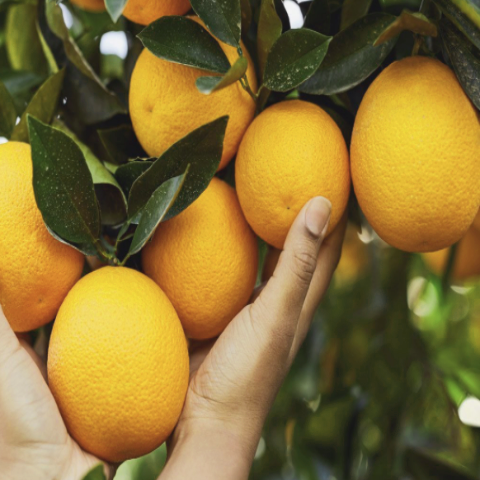orange: (33, 260, 200, 457), (329, 43, 478, 255), (229, 80, 357, 256)
